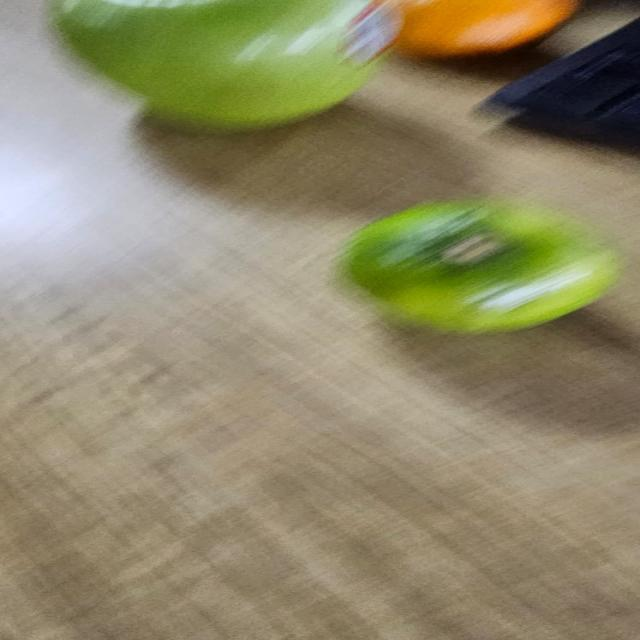Apel Granny Smith: (41, 0, 405, 135)
Jeruk Mandarin: (356, 0, 590, 61)
Lemon: (328, 198, 630, 333)
